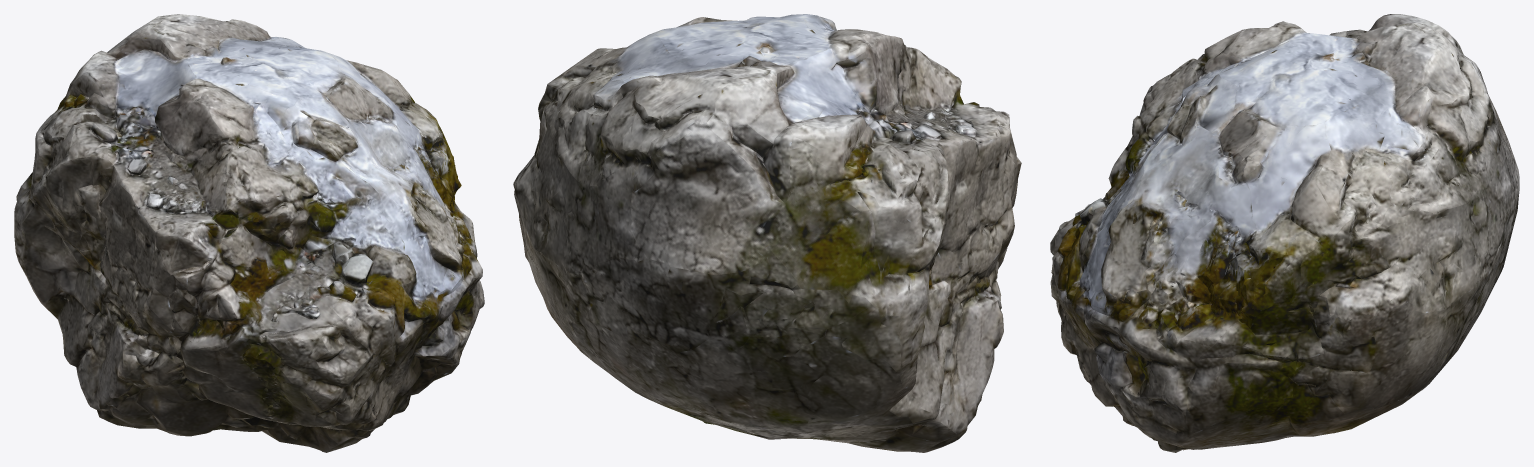
File: erratic-30k.glb
3 views of the same model, side by side, from view 1: azimuth 30°, elevation 25°; view 2: azimuth 150°, elevation 25°; view 3: azimuth 270°, elevation 25° (orthographic). The views are drawn at different scales.
Visible parts, largest first — view 1: geometry_0; view 2: geometry_0; view 3: geometry_0.
Part boxes in pixels (left/top/right/bottom): geometry_0: left=14, top=14, right=484, bottom=452; geometry_0: left=513, top=14, right=1021, bottom=452; geometry_0: left=1050, top=14, right=1519, bottom=452.
Size of the model in its own units: 0.7982 by 0.7138 by 0.8184.
Materials: 1 (1 with a texture image).
